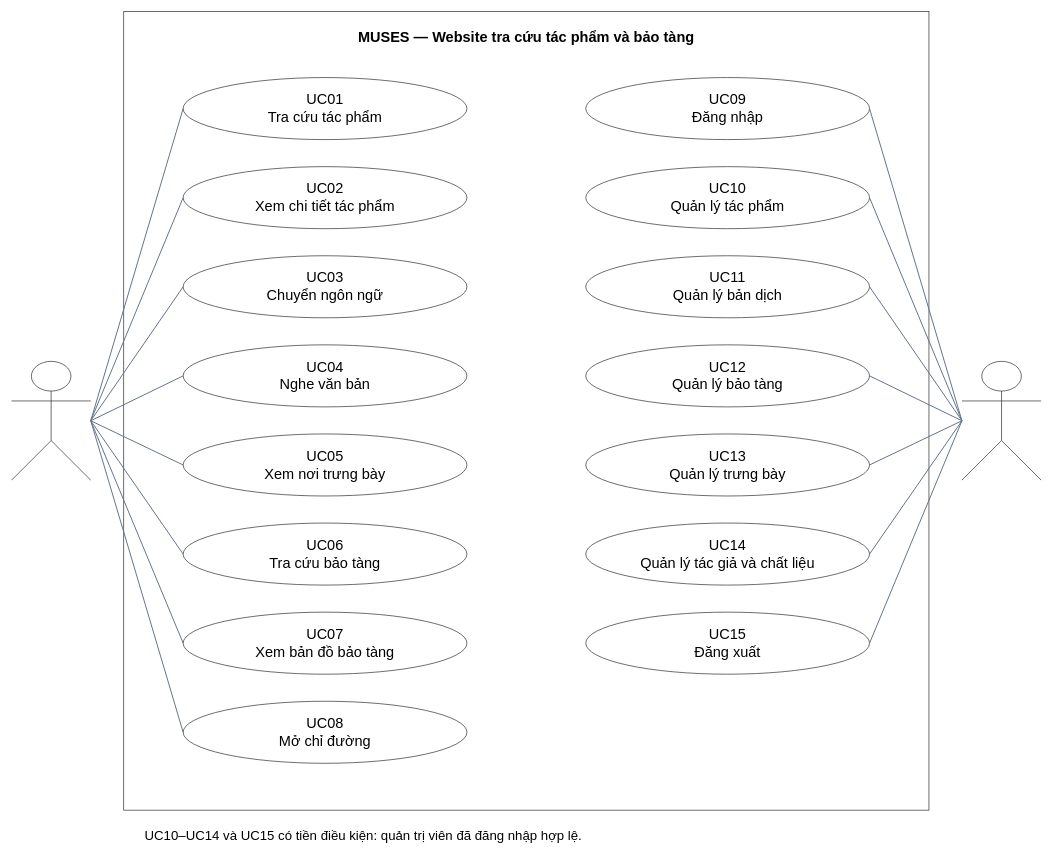
Some shapes in this 1053 by 868 pixel diagram are drawn without their labels. The centre of each missing label's shape, as x and y in pixels:
"Khách tra cứu" goes at (x=51, y=420).
"Quản trị viên" goes at (x=1001, y=420).
